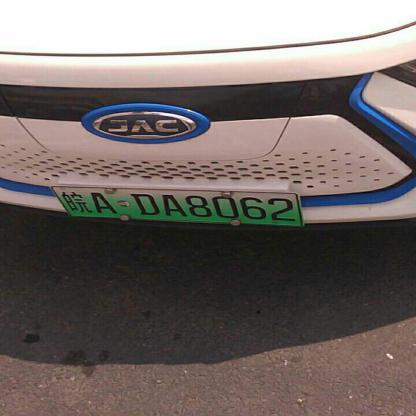lp: (51, 187, 71, 224)
